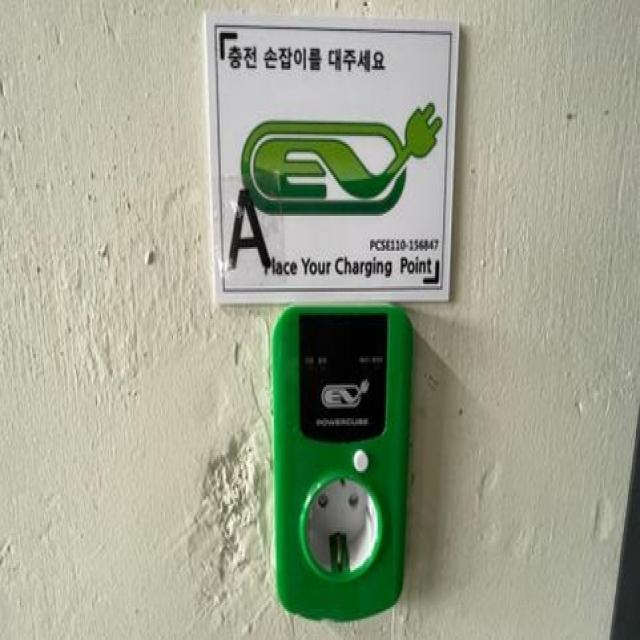typeb: (232, 290, 441, 640)
